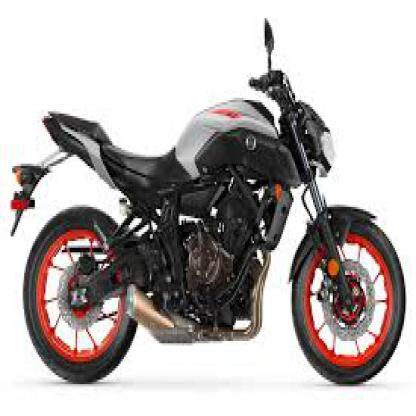Motorcycle: (8, 16, 409, 387)
